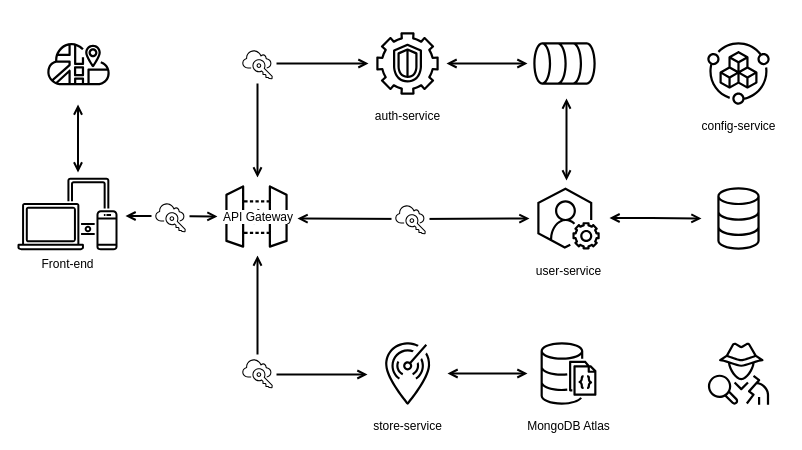
This 802x450 diagram has some shape labels left out. The centre of each missing label's shape, as x and y in pixels:
discovery-service: (738,373)
Google Maps API: (78,63)
H2 Database: (738,218)
RabbitMQ: (564,63)
